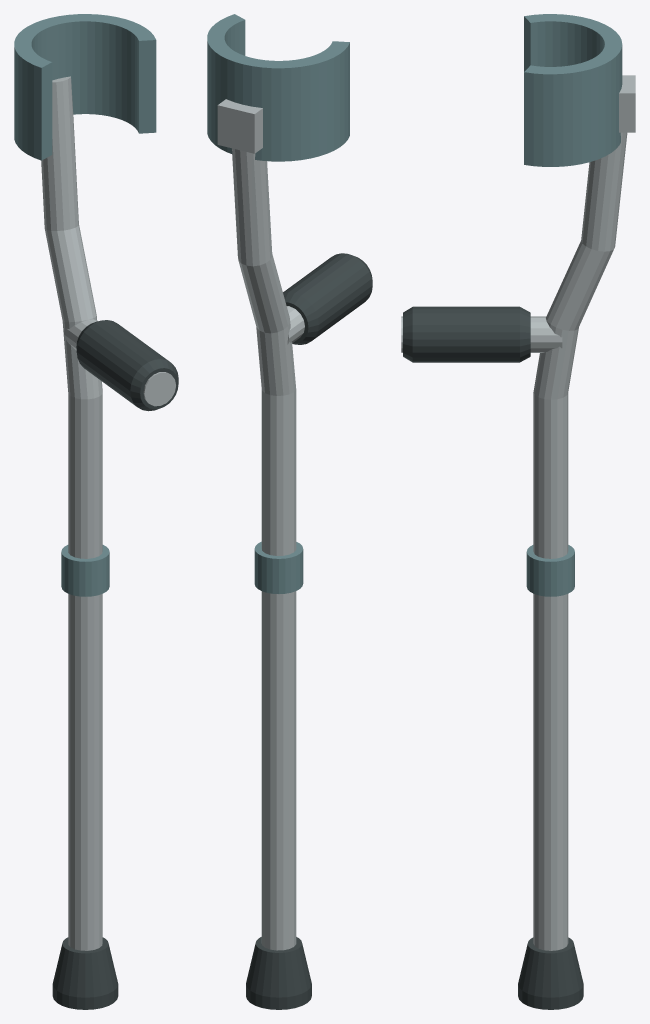
3 views of the same model, side by side, from view 1: azimuth 30°, elevation 25°; view 2: azimuth 150°, elevation 25°; view 3: azimuth 270°, elevation 25° (orthographic).
Parts seen in each view (by area): view 1: WholeSingleBentShaft, WholeOpenFrontForearmCradle, WholeDarkCantileverGrip, WholeFlaredClosedFerrule, WholeFixedLowerCollar, WholeForwardGripCore; view 2: WholeSingleBentShaft, WholeOpenFrontForearmCradle, WholeDarkCantileverGrip, WholeFlaredClosedFerrule, WholeRearCradleSaddle, WholeFixedLowerCollar, WholeForwardGripCore; view 3: WholeSingleBentShaft, WholeOpenFrontForearmCradle, WholeDarkCantileverGrip, WholeFlaredClosedFerrule, WholeFixedLowerCollar, WholeForwardGripCore, WholeRearCradleSaddle.
Part boxes in pixels (bbox=[...]): WholeSingleBentShaft: bbox=[41, 76, 102, 950]; WholeOpenFrontForearmCradle: bbox=[14, 14, 156, 160]; WholeDarkCantileverGrip: bbox=[76, 320, 178, 411]; WholeFlaredClosedFerrule: bbox=[52, 937, 118, 1009]; WholeFixedLowerCollar: bbox=[61, 545, 109, 596]; WholeForwardGripCore: bbox=[64, 319, 175, 406]; WholeSingleBentShaft: bbox=[232, 148, 296, 950]; WholeOpenFrontForearmCradle: bbox=[207, 14, 349, 161]; WholeDarkCantileverGrip: bbox=[283, 253, 372, 344]; WholeFlaredClosedFerrule: bbox=[246, 937, 311, 1009]; WholeRearCradleSaddle: bbox=[217, 99, 262, 153]; WholeFixedLowerCollar: bbox=[254, 541, 303, 593]; WholeForwardGripCore: bbox=[286, 306, 304, 344]; WholeSingleBentShaft: bbox=[533, 132, 627, 950]; WholeOpenFrontForearmCradle: bbox=[524, 14, 622, 166]; WholeDarkCantileverGrip: bbox=[403, 306, 530, 362]; WholeFlaredClosedFerrule: bbox=[518, 937, 583, 1009]; WholeFixedLowerCollar: bbox=[526, 545, 574, 596]; WholeForwardGripCore: bbox=[401, 316, 562, 352]; WholeRearCradleSaddle: bbox=[619, 75, 635, 132].
Size of the model in its own units: 0.1479 by 1.09 by 0.243.
